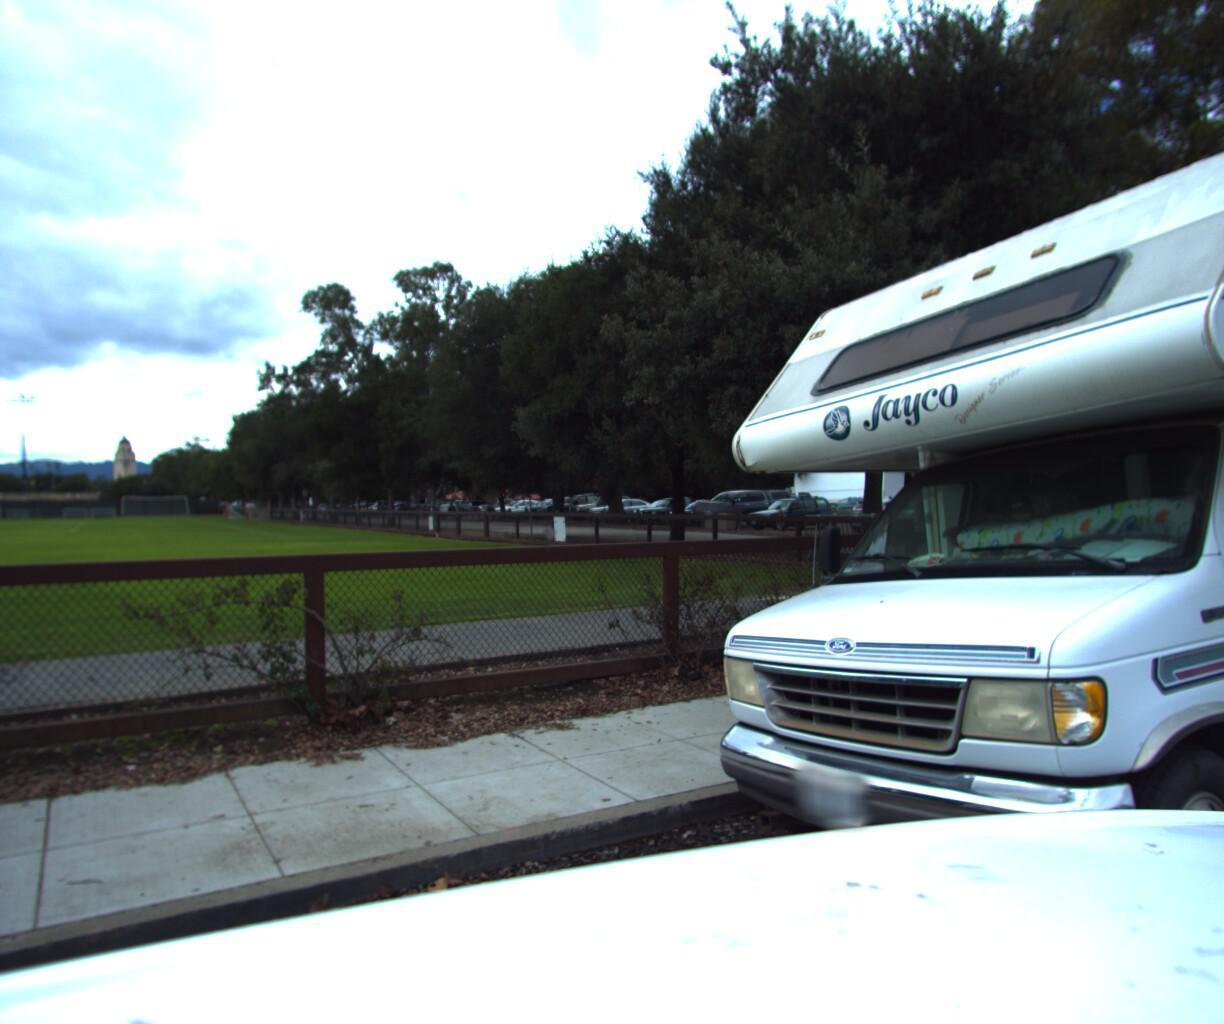other_vehicle: (598, 0, 1224, 1024)
